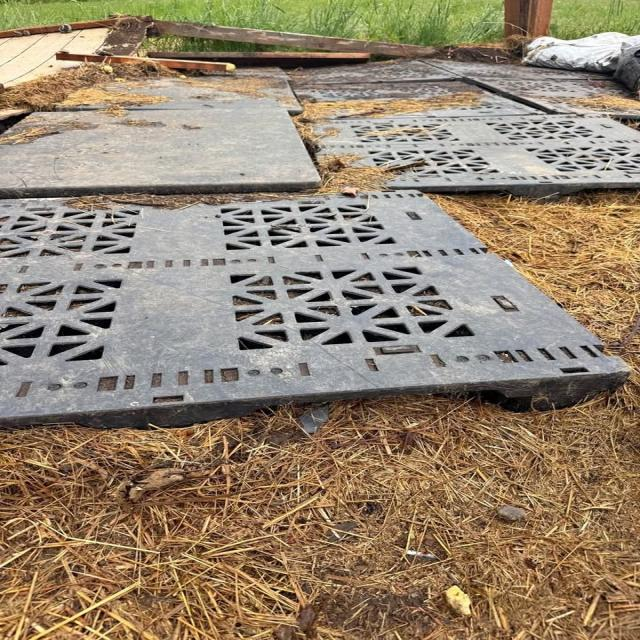non-igps: (1, 187, 636, 444), (299, 112, 639, 207), (0, 104, 326, 202), (460, 73, 640, 126)
